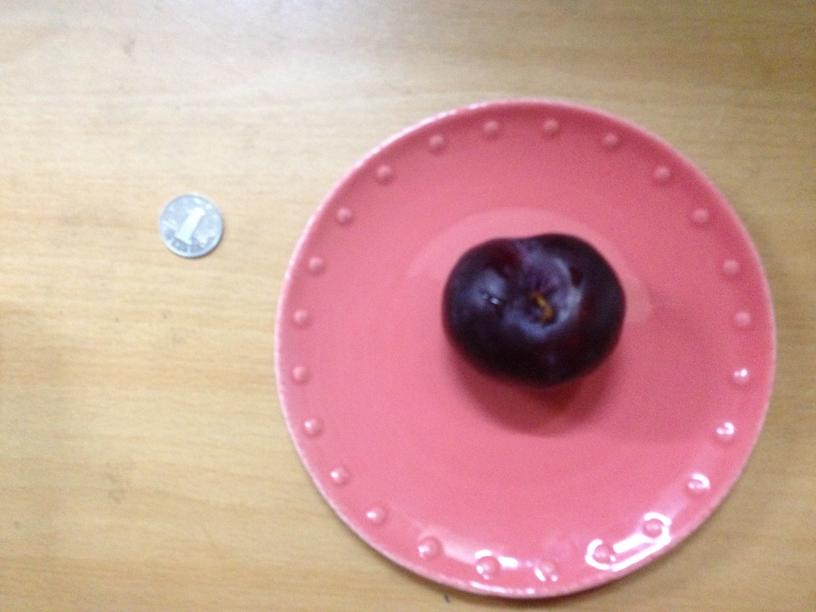coin: (156, 193, 226, 258)
plum: (434, 233, 628, 383)
